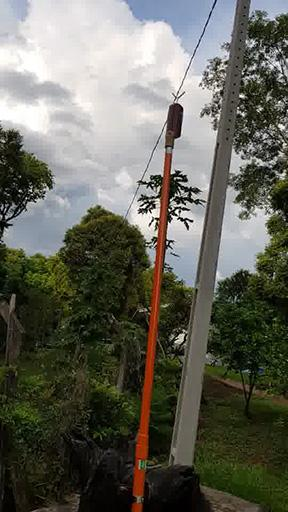Detector_Tensao_Contato: (165, 91, 184, 140)
Vara_Manobra: (132, 138, 174, 512)
